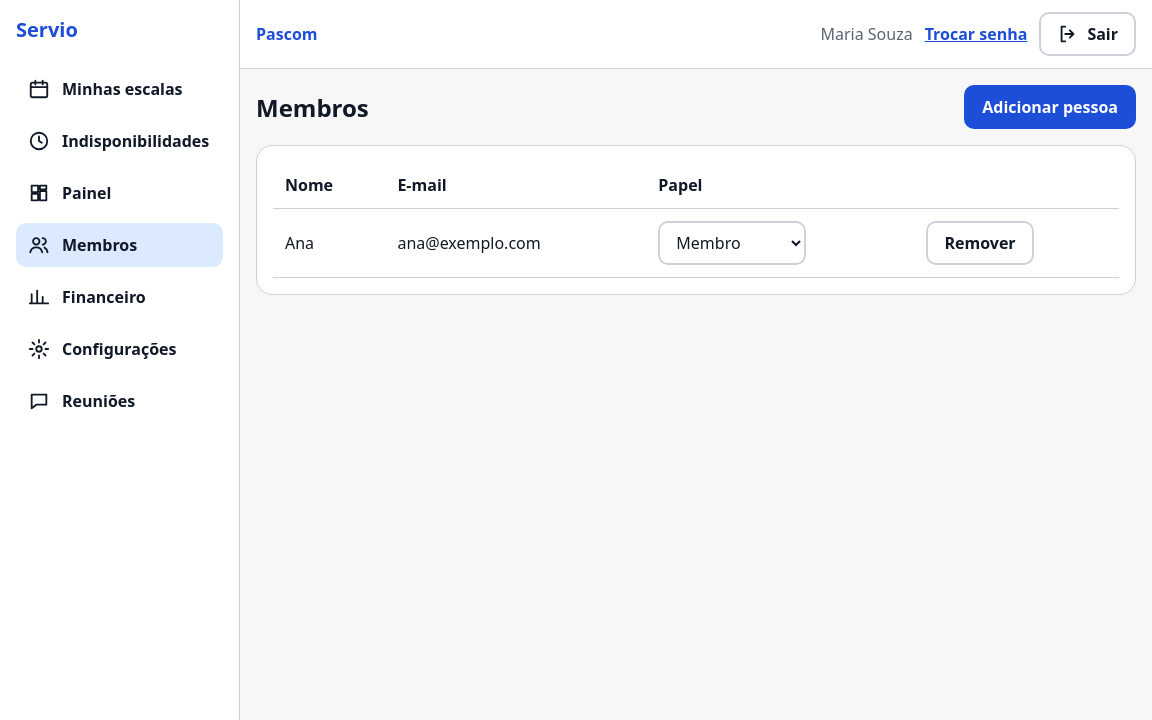
Test: Membros › senha curta não chega ao servidor
The width and height of the screenshot is (1152, 720).
Click the button "Adicionar pessoa" at (1050, 107), box [964, 85, 1136, 129]
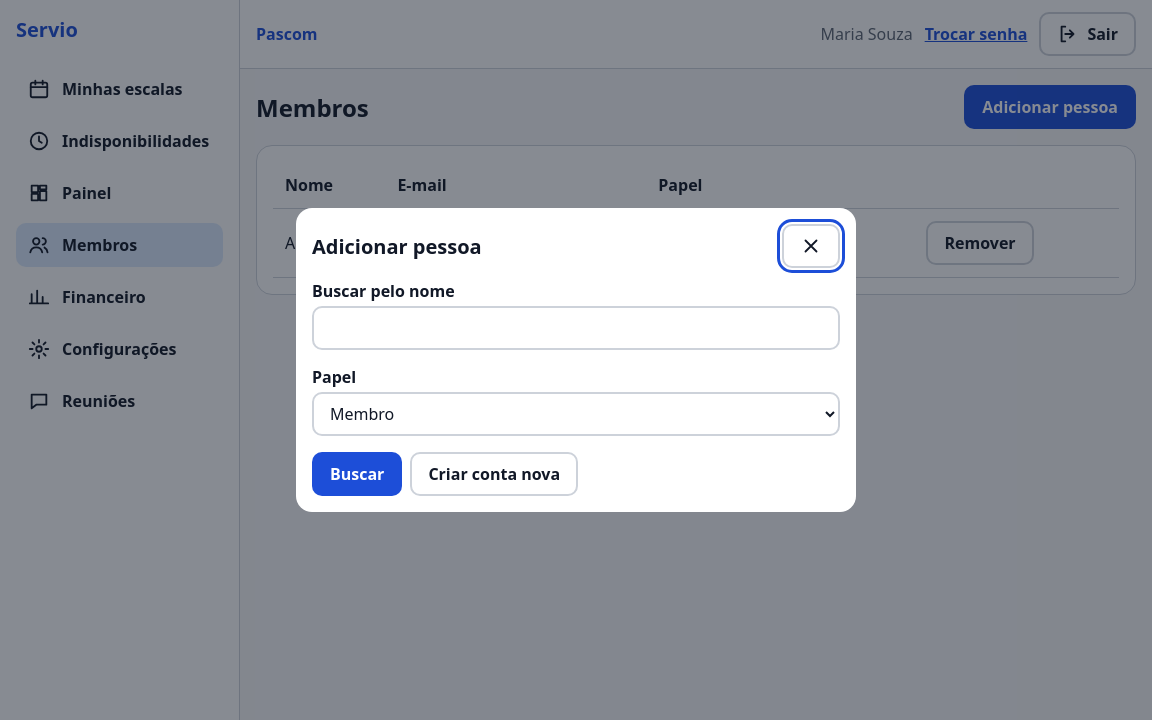
Click the button "Criar conta nova" at (494, 474), box [410, 452, 578, 496]
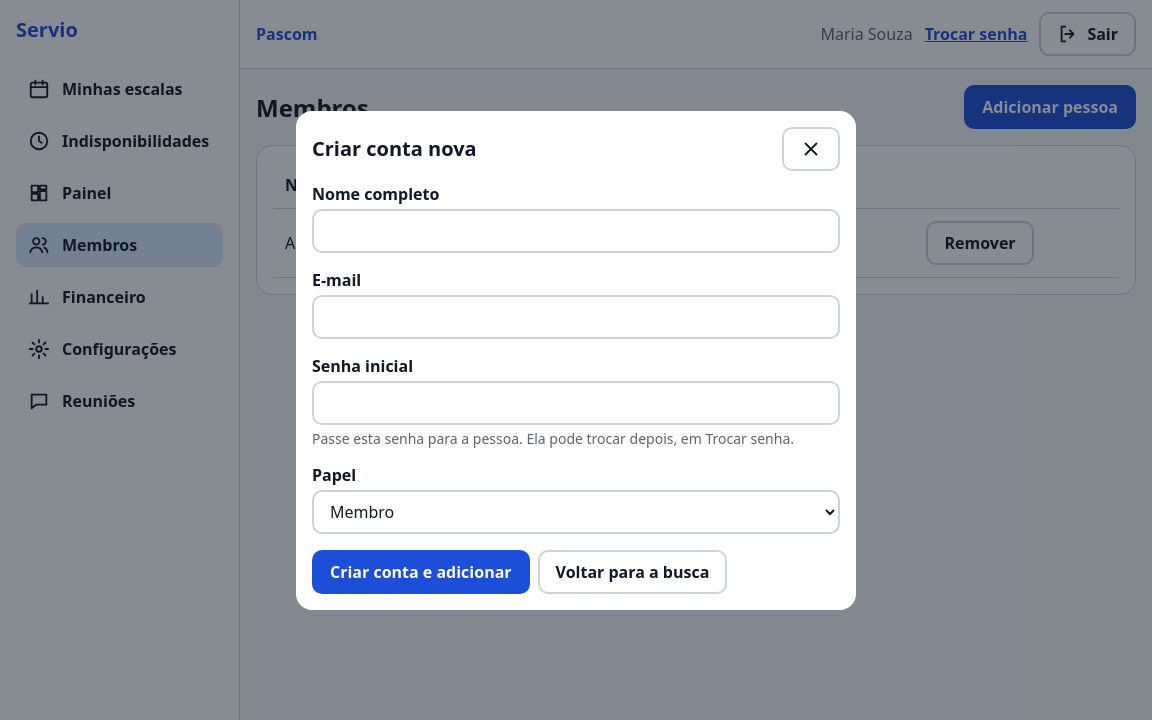
Type "João" into the field labelled "Nome completo" at (576, 230), box [312, 208, 840, 252]
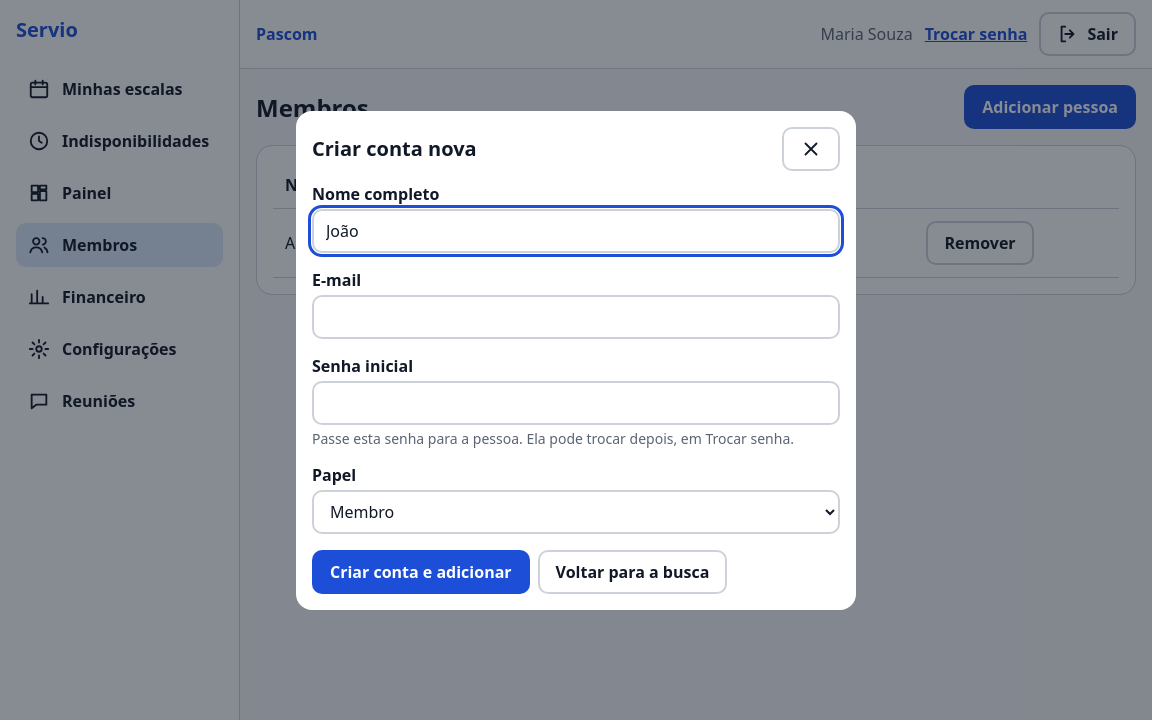
Type "joao@exemplo.com" into the field labelled "E-mail" at (576, 316), box [312, 294, 840, 338]
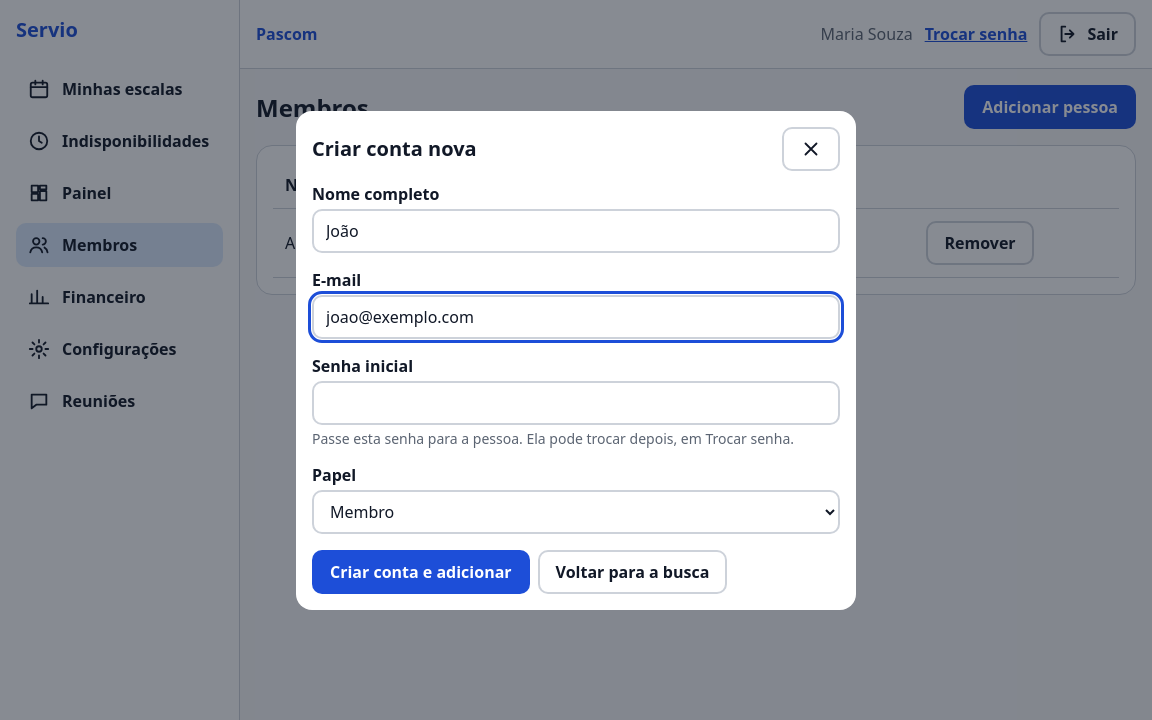
Type "1234" into the password field labelled "Senha inicial" at (576, 402), box [312, 380, 840, 424]
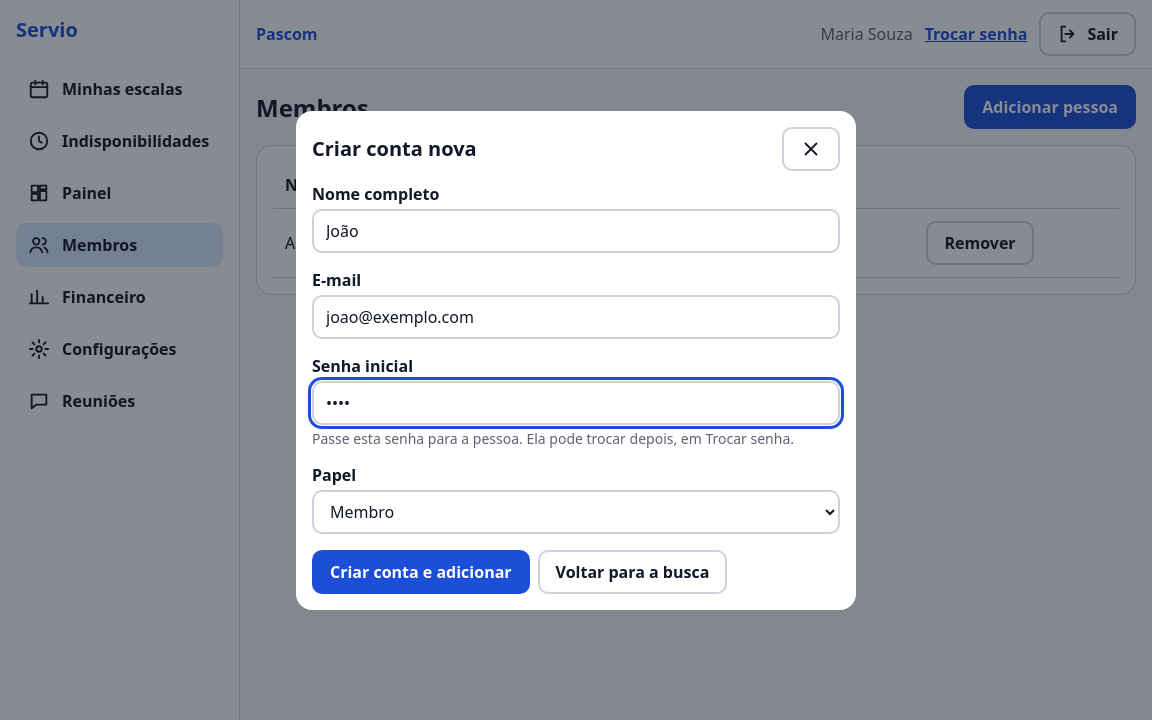
Click the button "Criar conta e adicionar" at (421, 572), box [312, 550, 530, 594]
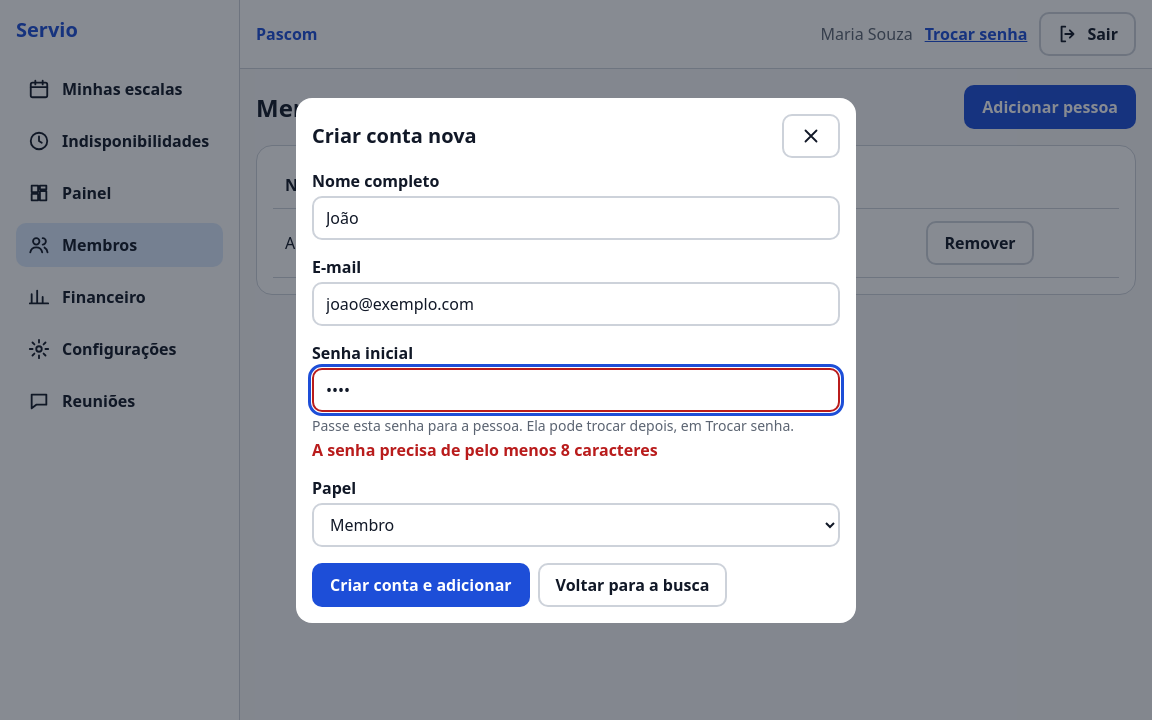
Expected: the text "A senha precisa de pelo menos 8 caracteres" is shown, [312, 438, 658, 460]
